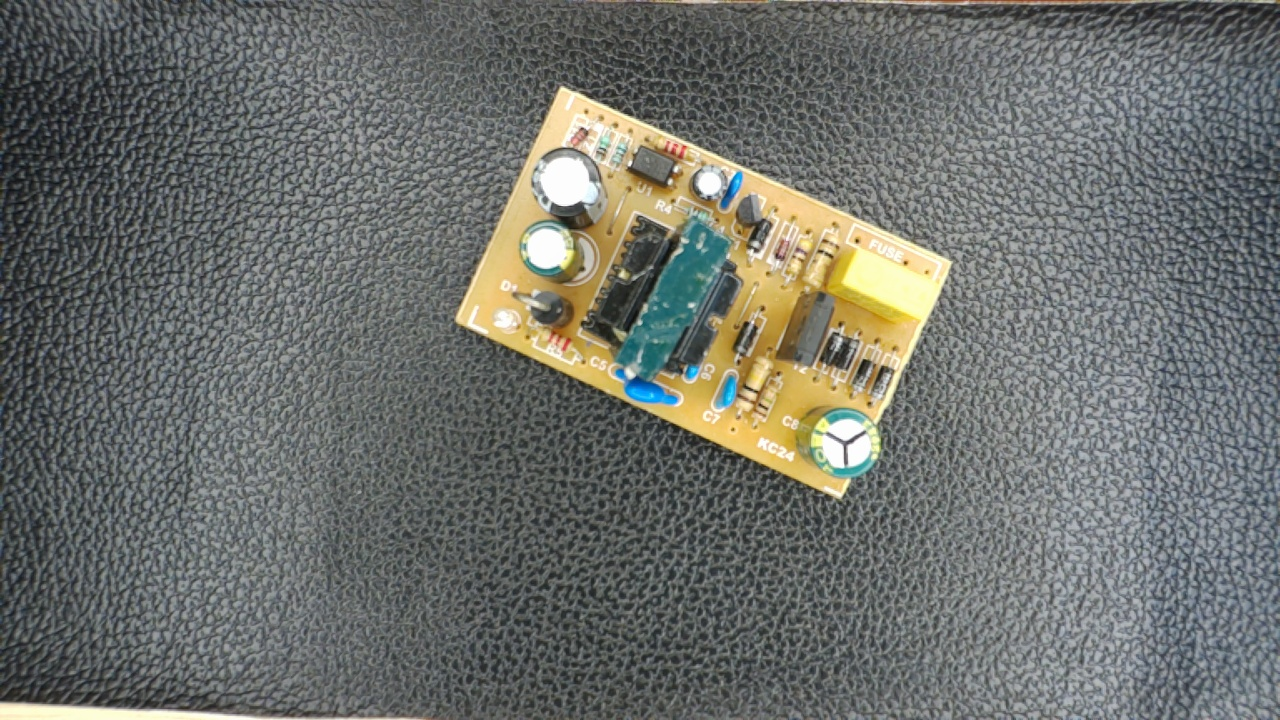hv_capacitor: (794, 402, 884, 482)
mov: (609, 369, 686, 408)
optocoupler: (620, 140, 681, 189)
